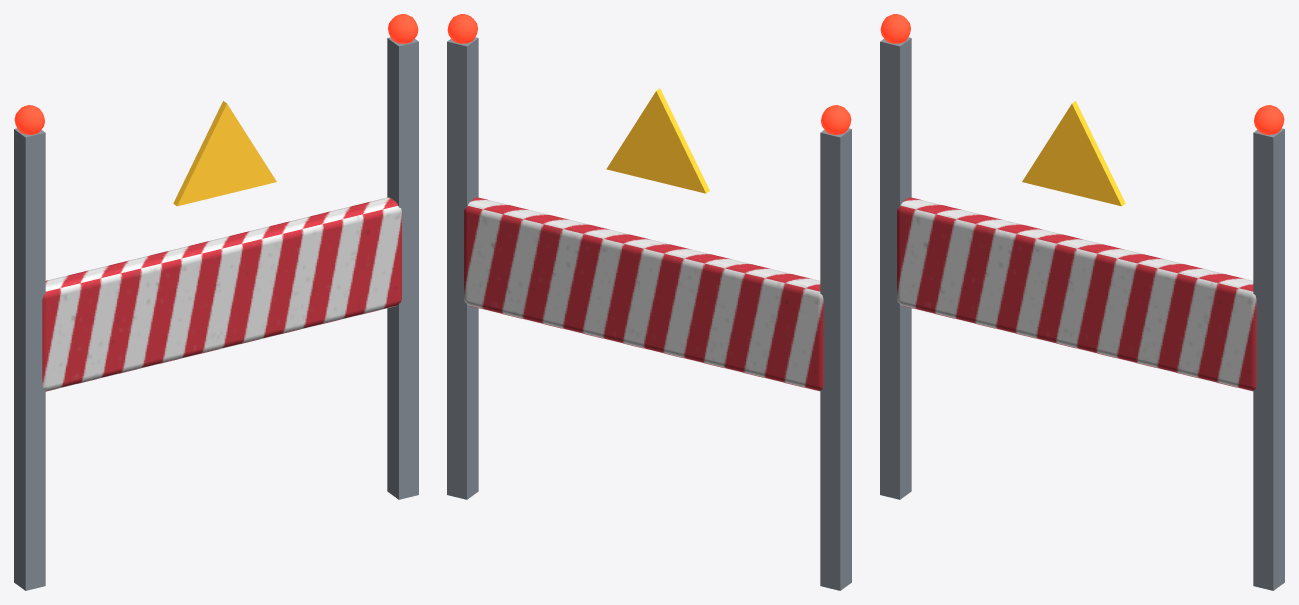
The model's file is barrier_high.glb.
3 renders of one model, left to right at view 1: azimuth 30°, elevation 25°; view 2: azimuth 150°, elevation 25°; view 3: azimuth 330°, elevation 25°, orthographic.
Parts seen in each view (by area): view 1: BarrierHigh_BarrierPanelHigh_red, BarrierHigh_BarrierPost, BarrierHigh_BarrierSign, BarrierHigh_BarrierLamp; view 2: BarrierHigh_BarrierPanelHigh_red, BarrierHigh_BarrierPost, BarrierHigh_BarrierSign, BarrierHigh_BarrierLamp; view 3: BarrierHigh_BarrierPanelHigh_red, BarrierHigh_BarrierPost, BarrierHigh_BarrierSign, BarrierHigh_BarrierLamp.
Part boxes in pixels (<box>): BarrierHigh_BarrierPanelHigh_red: <box>42,197,401,391</box>; BarrierHigh_BarrierPost: <box>14,37,418,590</box>; BarrierHigh_BarrierSign: <box>173,101,276,206</box>; BarrierHigh_BarrierLamp: <box>14,14,418,134</box>; BarrierHigh_BarrierPanelHigh_red: <box>464,197,823,391</box>; BarrierHigh_BarrierPost: <box>447,37,851,590</box>; BarrierHigh_BarrierSign: <box>606,88,709,193</box>; BarrierHigh_BarrierLamp: <box>447,14,851,134</box>; BarrierHigh_BarrierPanelHigh_red: <box>897,197,1256,391</box>; BarrierHigh_BarrierPost: <box>880,37,1284,590</box>; BarrierHigh_BarrierSign: <box>1022,101,1125,206</box>; BarrierHigh_BarrierLamp: <box>880,14,1284,134</box>.
Size of the model in its own units: 2.4 by 2.74 by 0.1861.
Materials: 4 (1 with a texture image).
